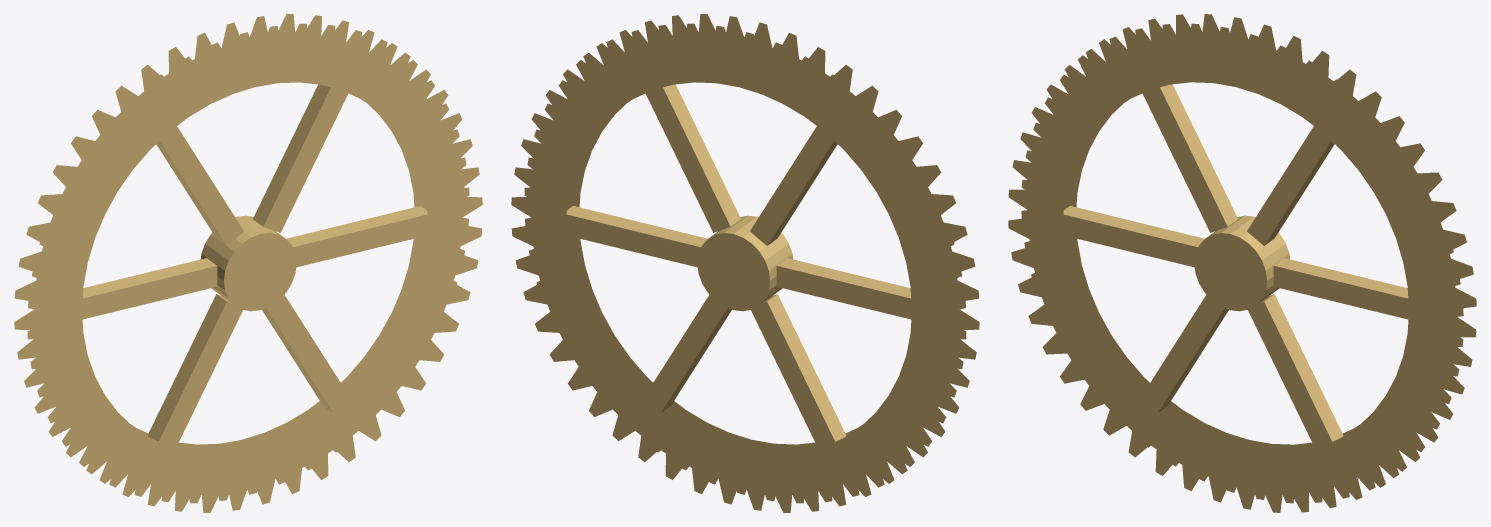
Rendered from wheel_big.glb.
3 views of the same model, side by side, from view 1: azimuth 30°, elevation 25°; view 2: azimuth 150°, elevation 25°; view 3: azimuth 330°, elevation 25° (orthographic).
Visible parts, largest first — view 1: wheel_big; view 2: wheel_big; view 3: wheel_big.
Part boxes in pixels (x1,y1,x2,y2): wheel_big: (14, 14, 482, 512); wheel_big: (511, 14, 979, 512); wheel_big: (1008, 14, 1476, 512).
Size of the model in its own units: 0.9995 by 0.9995 by 0.09.
